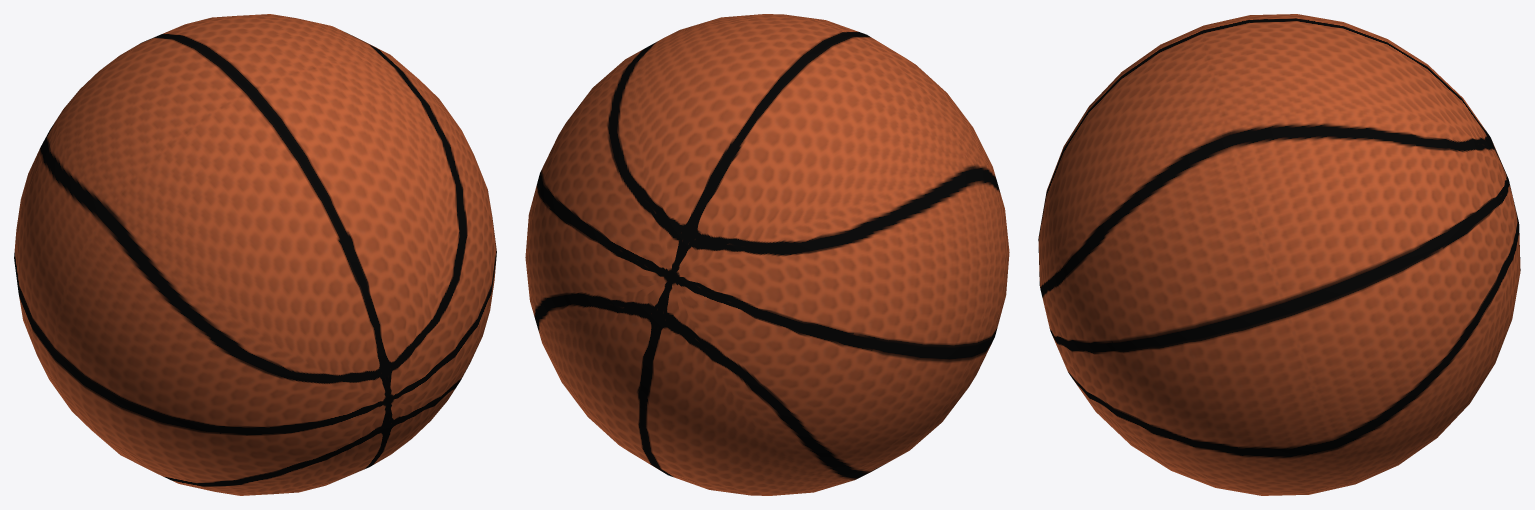
Rendered from figure_3_animation.fbx.
The picture shows the model from 3 angles, left to right: view 1: azimuth 30°, elevation 25°; view 2: azimuth 150°, elevation 25°; view 3: azimuth 270°, elevation 25°; orthographic projection.
Visible parts, largest first — view 1: Sphere; view 2: Sphere; view 3: Sphere.
Part boxes in pixels (x1,y1,x2,y2): Sphere: (14, 14, 496, 495); Sphere: (525, 14, 1009, 495); Sphere: (1038, 14, 1520, 495).
Bounding box in the file's own units: 199 × 199 × 199.
Materials: 1 (1 with a texture image).
